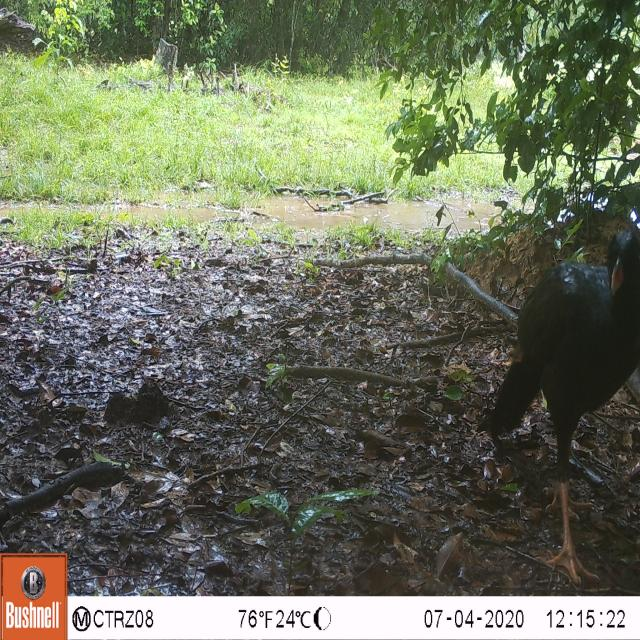Salvins Curassow: (477, 213, 640, 583)
